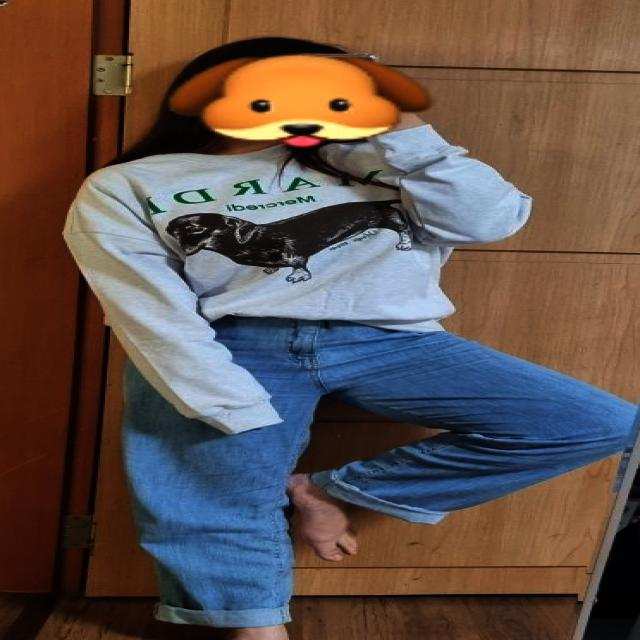denimpants: (119, 315, 634, 628)
mtm: (62, 126, 531, 442)
